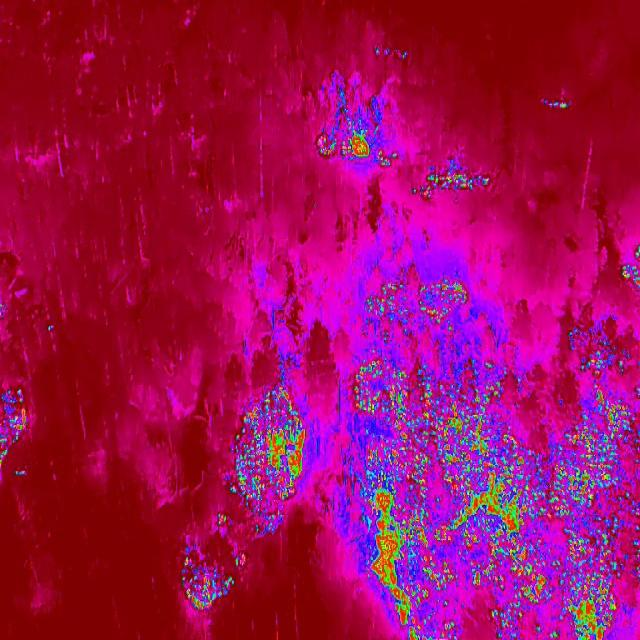fire: (336, 360, 549, 540), (362, 540, 640, 640), (225, 388, 315, 534), (550, 433, 627, 537), (358, 270, 474, 336), (568, 358, 640, 434), (173, 534, 240, 614), (314, 121, 403, 169), (411, 161, 504, 203), (0, 392, 35, 480), (617, 244, 640, 307), (538, 92, 575, 114), (214, 510, 229, 532)
